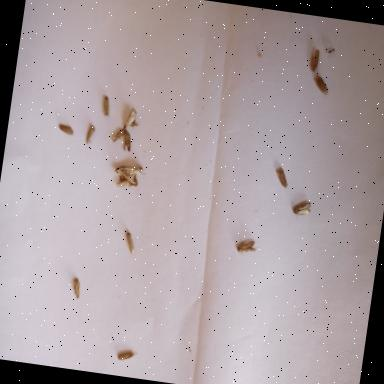pbw: (112, 162, 146, 182), (236, 237, 260, 256), (114, 172, 138, 190), (290, 201, 311, 220), (310, 75, 328, 95), (124, 110, 140, 130), (273, 168, 289, 188), (124, 232, 136, 254), (70, 279, 82, 299), (310, 48, 320, 72), (117, 350, 137, 362), (122, 131, 132, 152), (86, 125, 96, 146), (101, 96, 111, 116), (112, 128, 124, 144), (57, 124, 73, 136)
